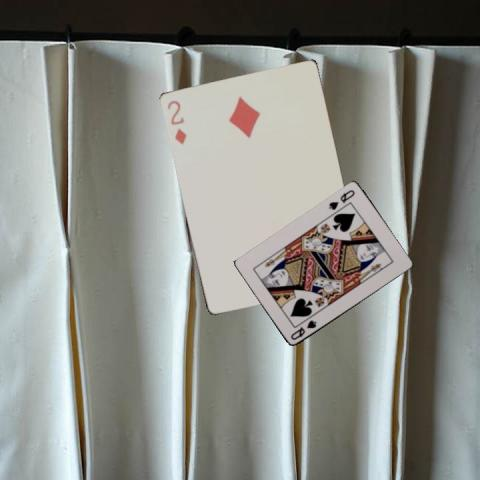2d: (164, 97, 188, 145)
Qs: (287, 317, 318, 342), (326, 187, 356, 212)
